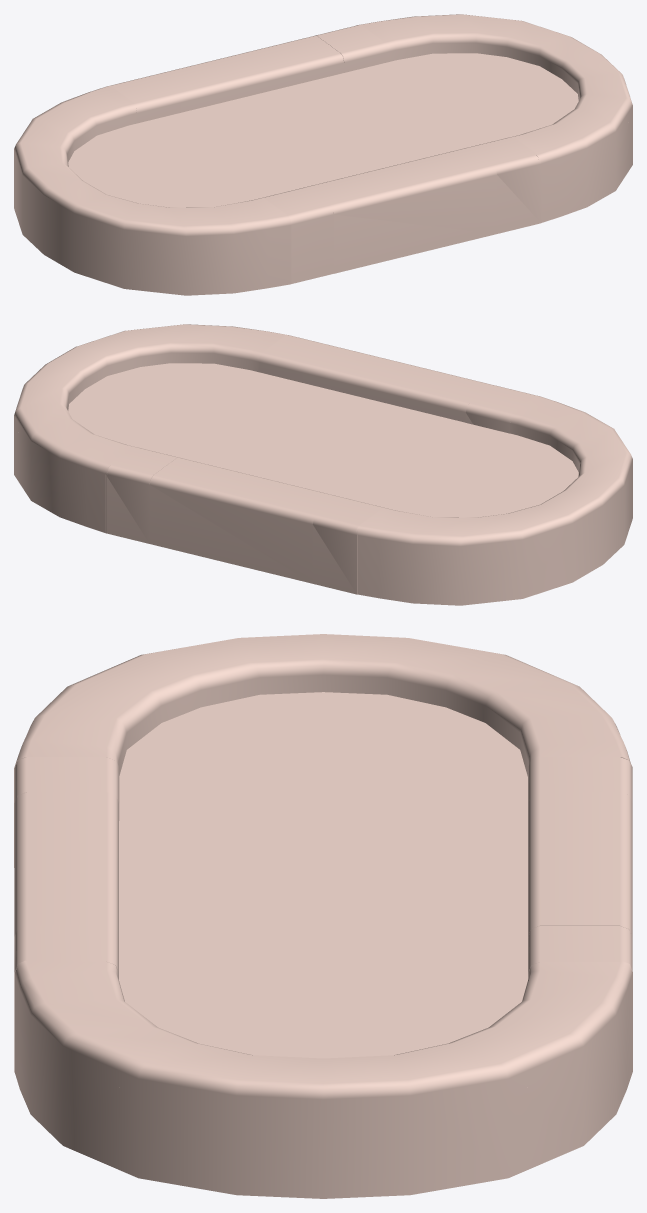
Rendered from 0 shape curb.fbx.
3 views of the same model, one above another, from view 1: azimuth 30°, elevation 25°; view 2: azimuth 150°, elevation 25°; view 3: azimuth 270°, elevation 25° (orthographic). The views are drawn at different scales.
Visible parts, largest first — view 1: Oval curb.001; view 2: Oval curb.001; view 3: Oval curb.001.
Boxes of the visible parts, x1=… form: Oval curb.001: x1=14, y1=14, x2=632, y2=295; Oval curb.001: x1=14, y1=324, x2=632, y2=605; Oval curb.001: x1=14, y1=634, x2=632, y2=1198.
Bounding box in the file's own units: 218 × 24.61 × 124.
